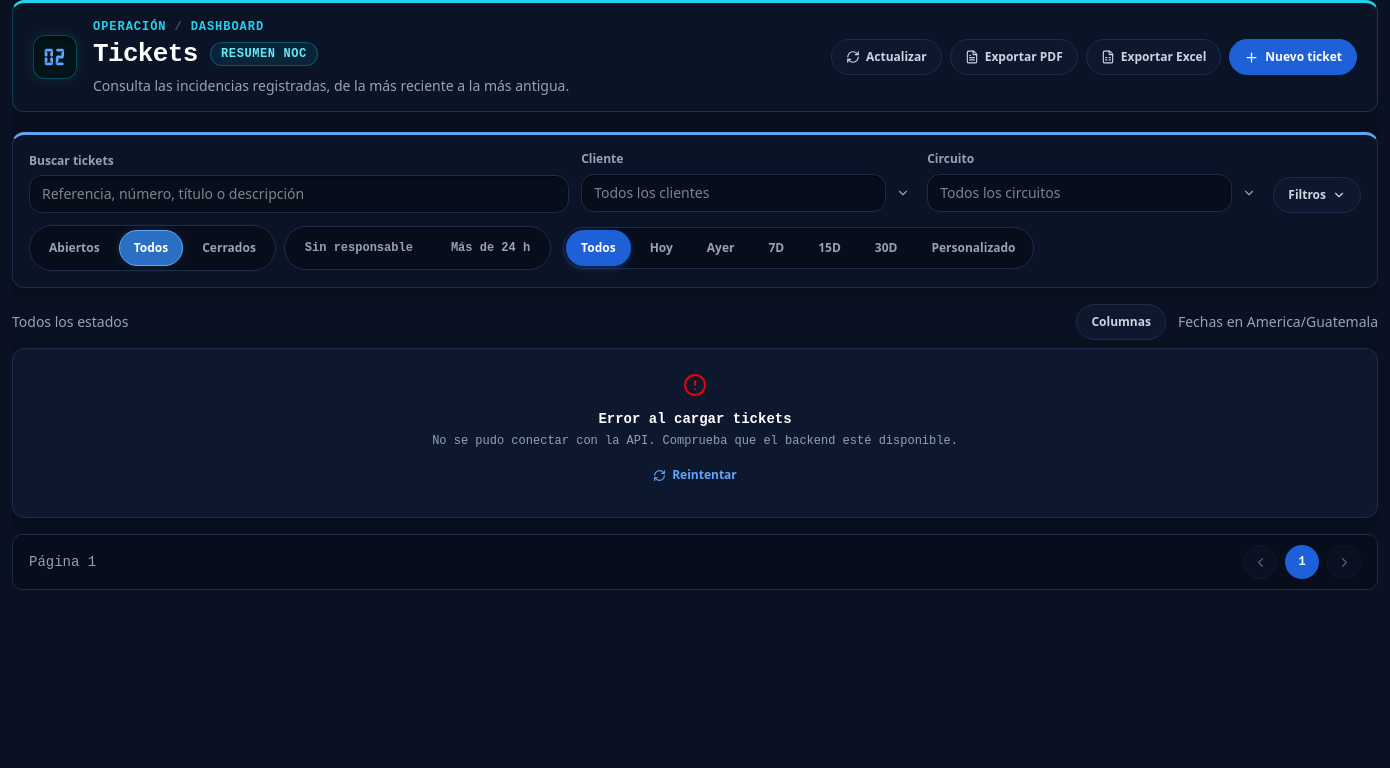
Test: listado de tickets › muestra el error y permite reintentar
Expected: the message shows "Error al cargar tickets", [598, 411, 792, 427]
Click the button "Reintentar". click: coordinates (695, 475)
box: [638, 457, 752, 493]
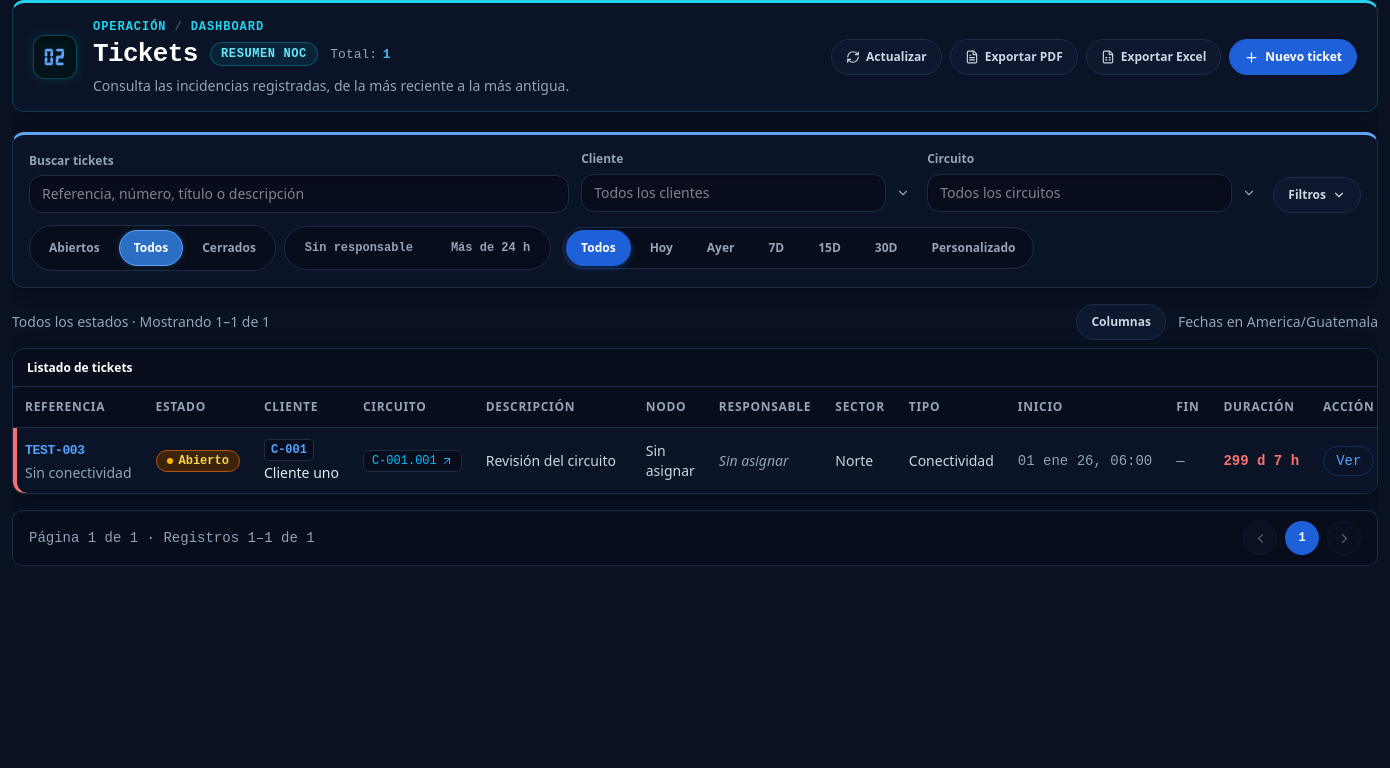
Expected: the link "TEST-003" is shown, [25, 443, 85, 458]
